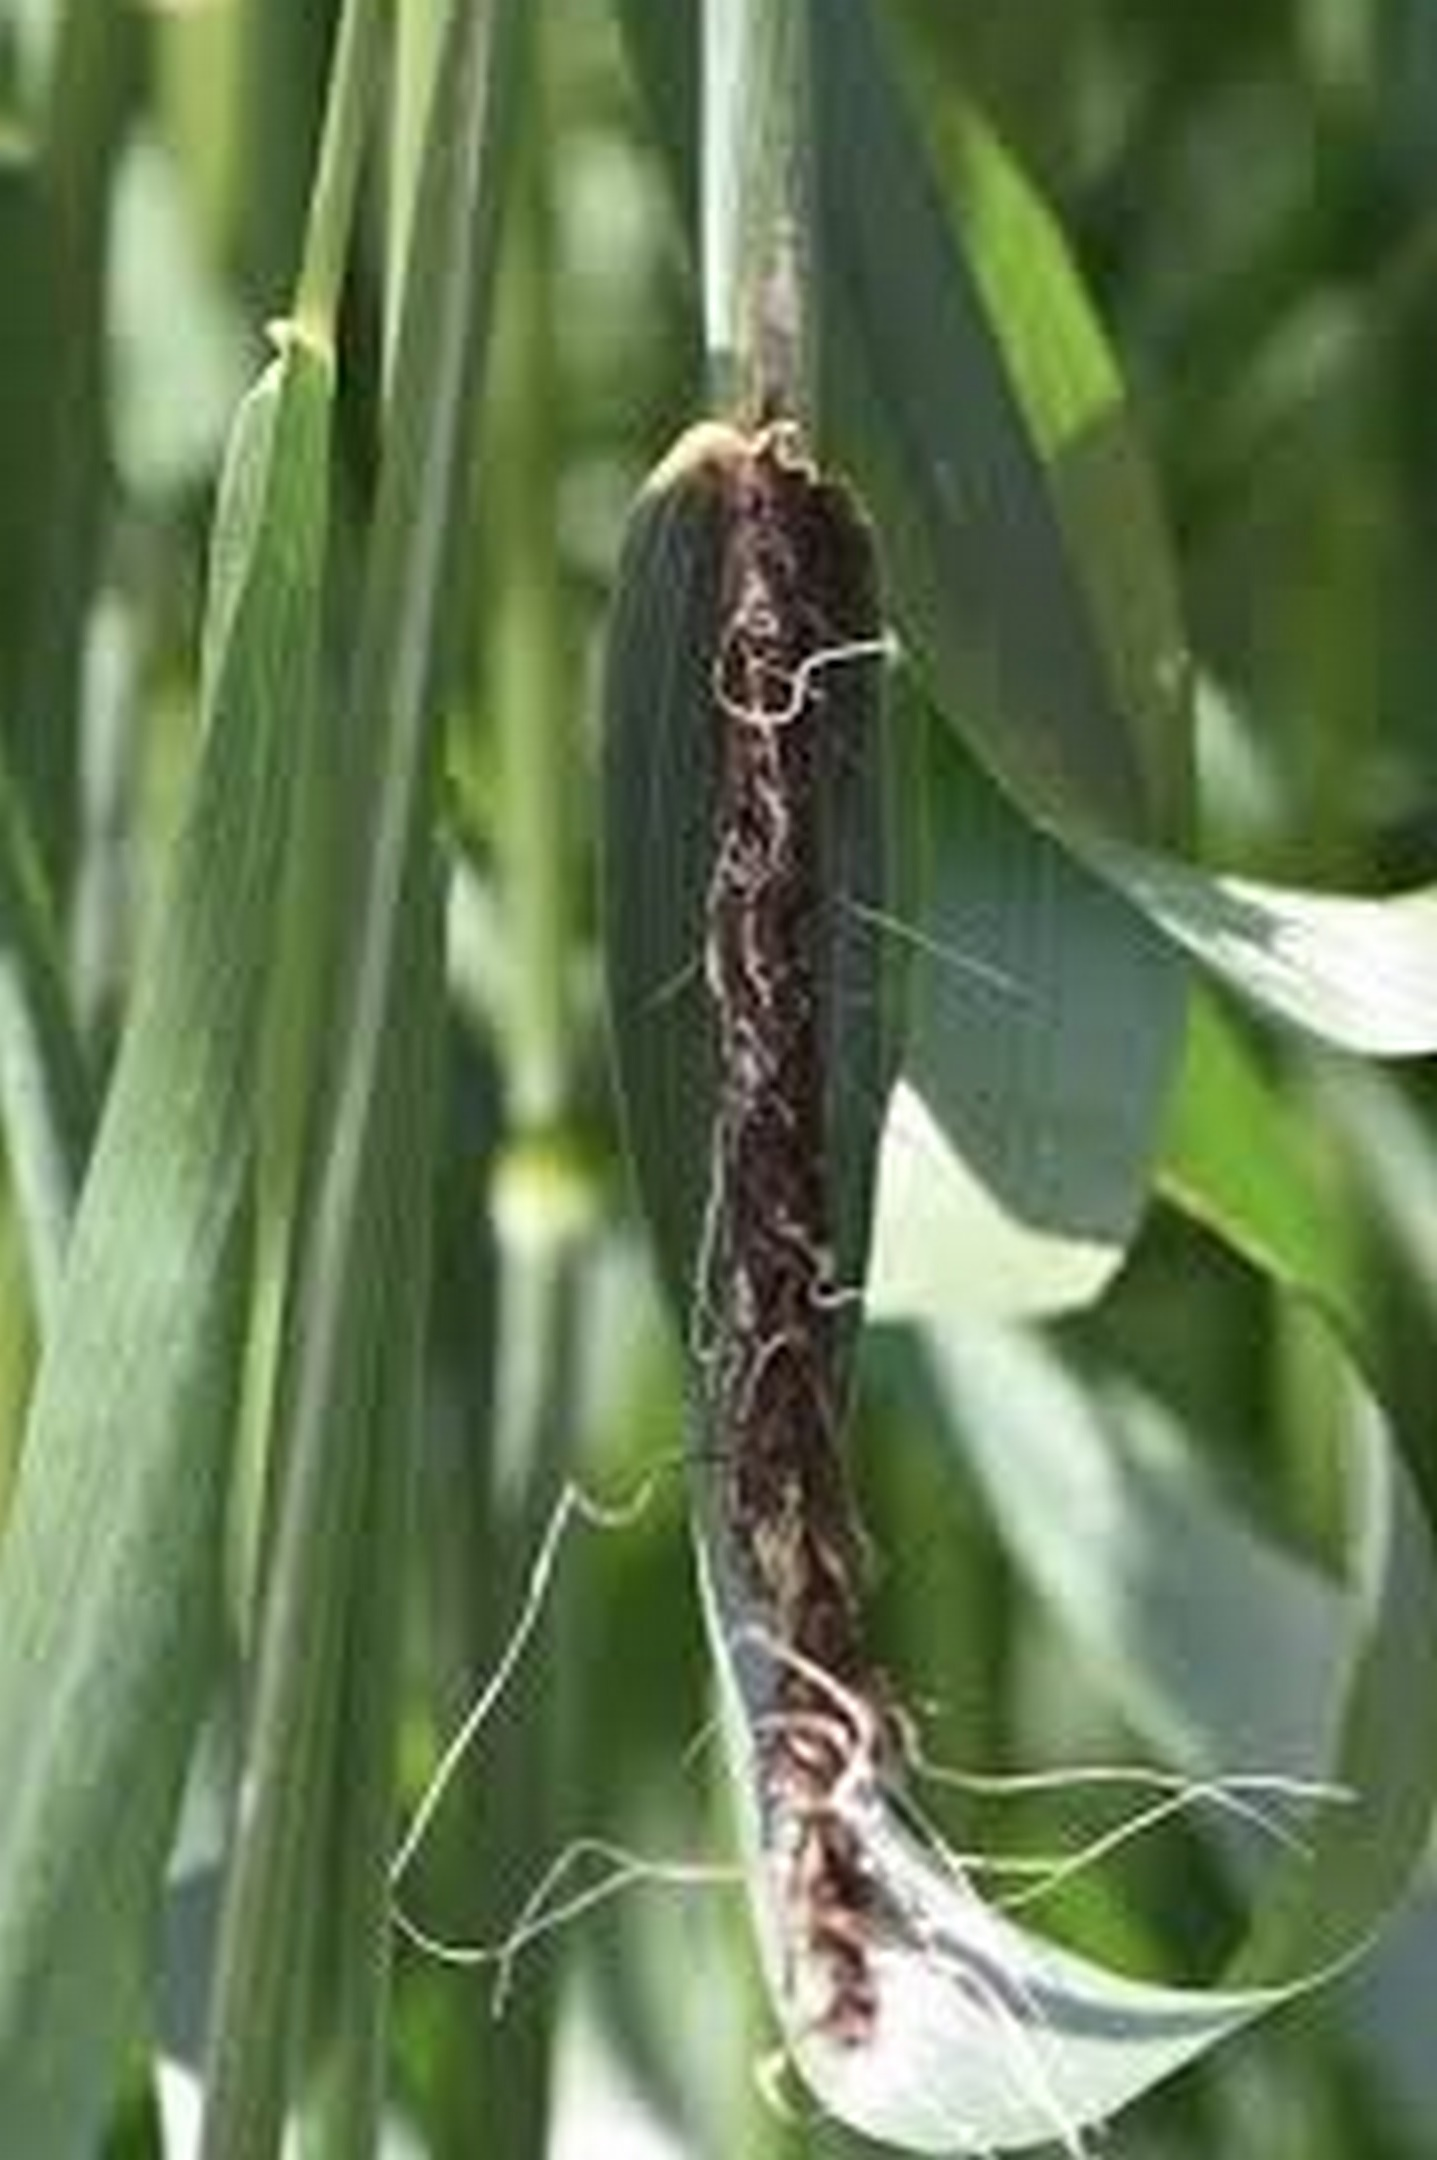Wheat Loose Smut: (617, 436, 994, 2019)
